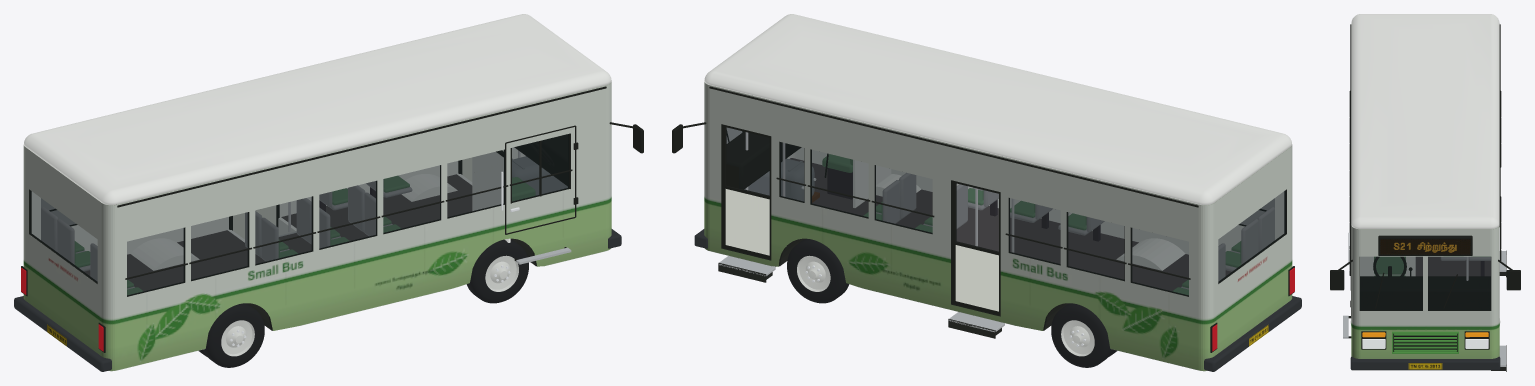
File: smallbus-2013.glb
The picture shows the model from 3 angles, left to right: view 1: azimuth 30°, elevation 25°; view 2: azimuth 150°, elevation 25°; view 3: azimuth 270°, elevation 25°; orthographic projection. The views are drawn at different scales.
Parts seen in each view (by area): view 1: smallbus-2013_Body, smallbus-2013_Glass, smallbus-2013_Wheel_Front_L; view 2: smallbus-2013_Body, smallbus-2013_Glass, smallbus-2013_Wheel_Front_L; view 3: smallbus-2013_Body, smallbus-2013_Glass.
Part boxes in pixels (x1,y1,x2,y2): smallbus-2013_Body: [14, 14, 643, 371]; smallbus-2013_Glass: [30, 134, 568, 296]; smallbus-2013_Wheel_Front_L: [198, 239, 528, 367]; smallbus-2013_Body: [672, 14, 1301, 371]; smallbus-2013_Glass: [726, 127, 1285, 296]; smallbus-2013_Wheel_Front_L: [787, 238, 1117, 367]; smallbus-2013_Body: [1330, 14, 1520, 371]; smallbus-2013_Glass: [1360, 256, 1490, 310].
Size of the model in its own units: 8.04 by 3 by 2.96.
Materials: 11 (11 with a texture image).
